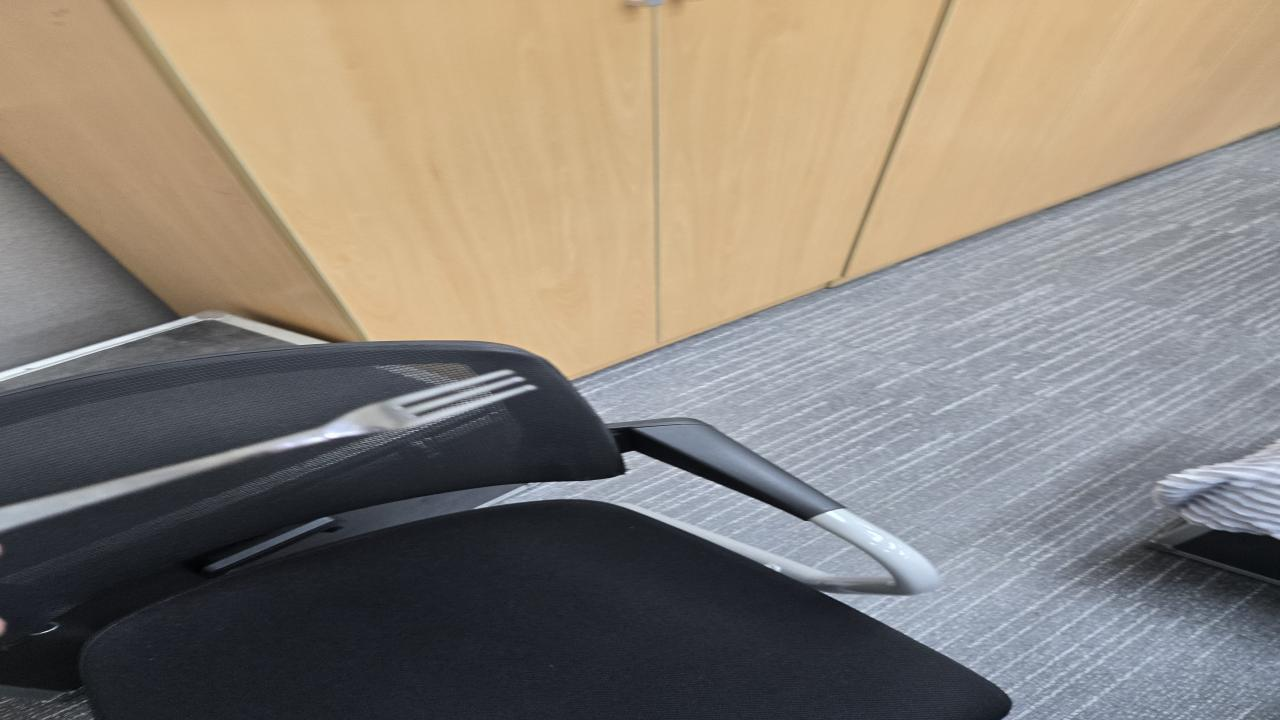fork: (0, 371, 539, 530)
